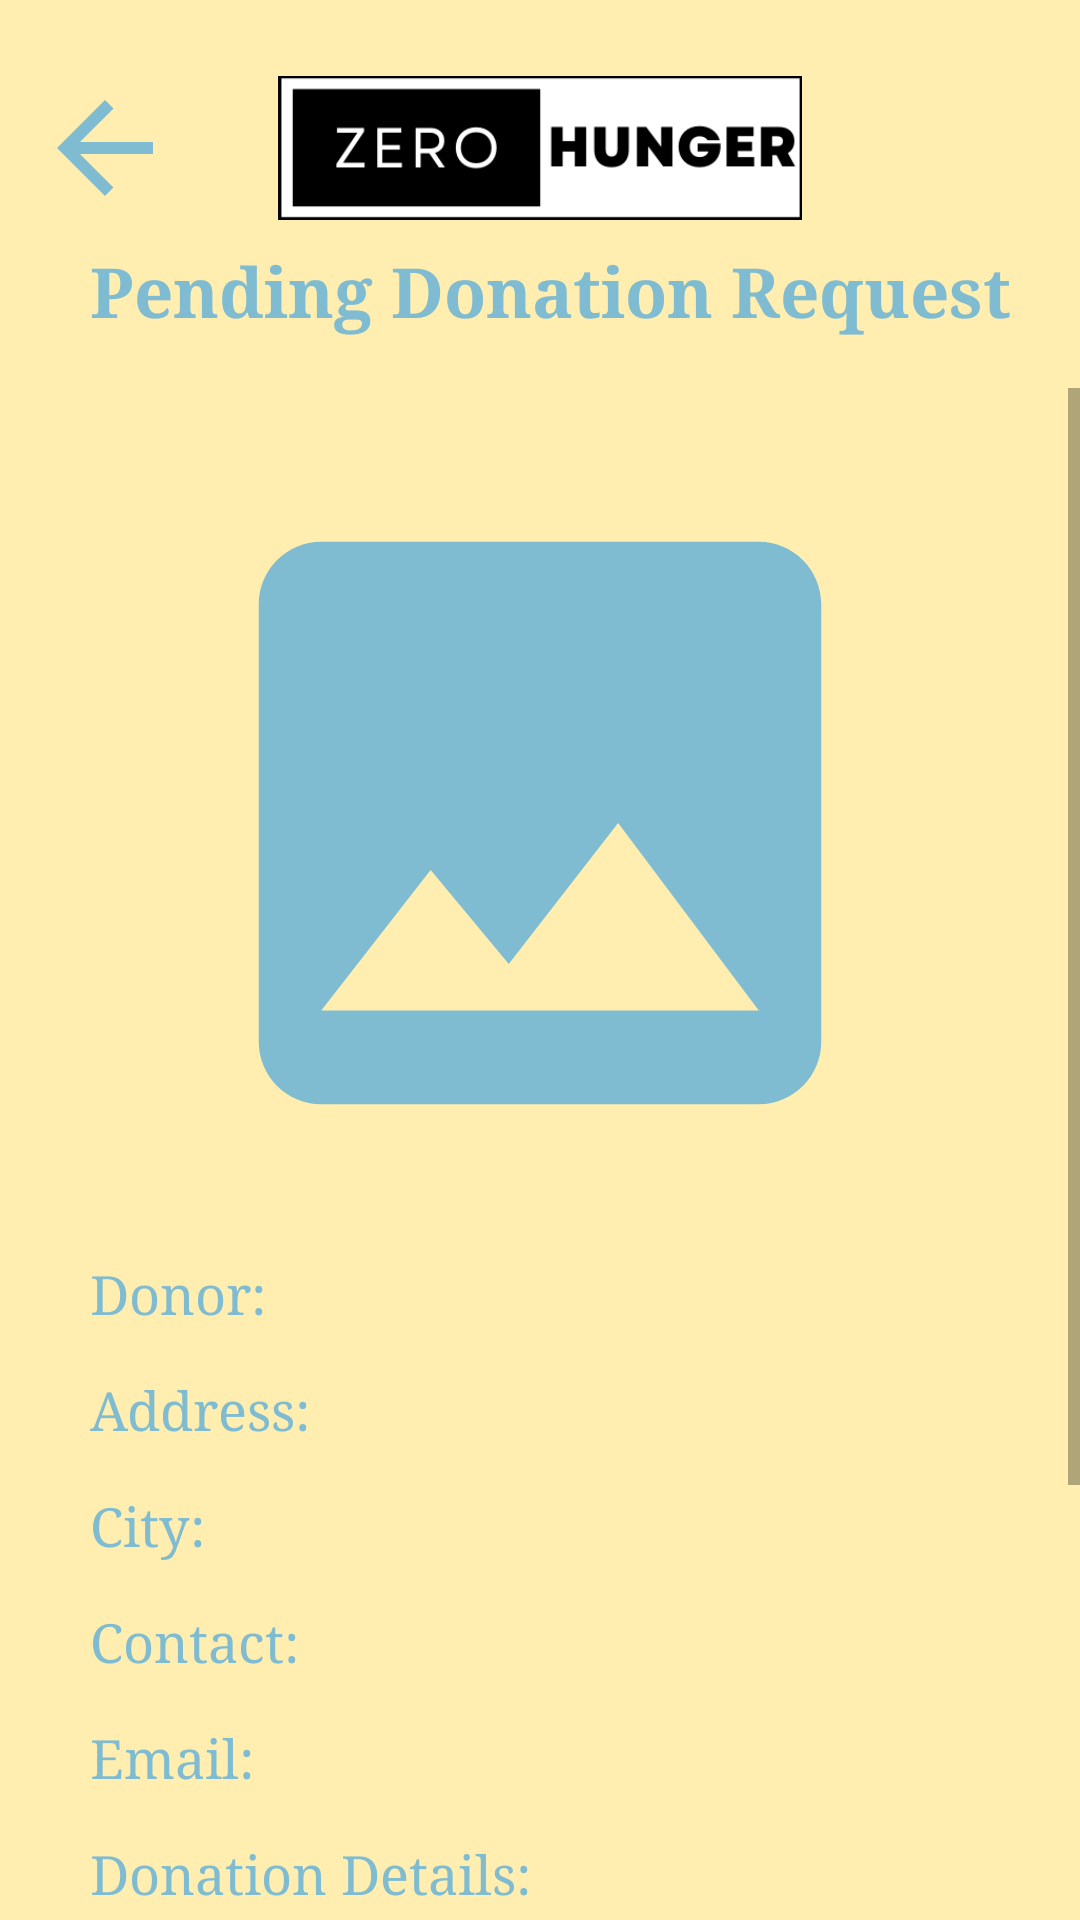

Named icons in this screenshot (1080x1920) and their bounding boxes, box(x1, y1, x2, y2):
back: box(57, 100, 153, 196)
